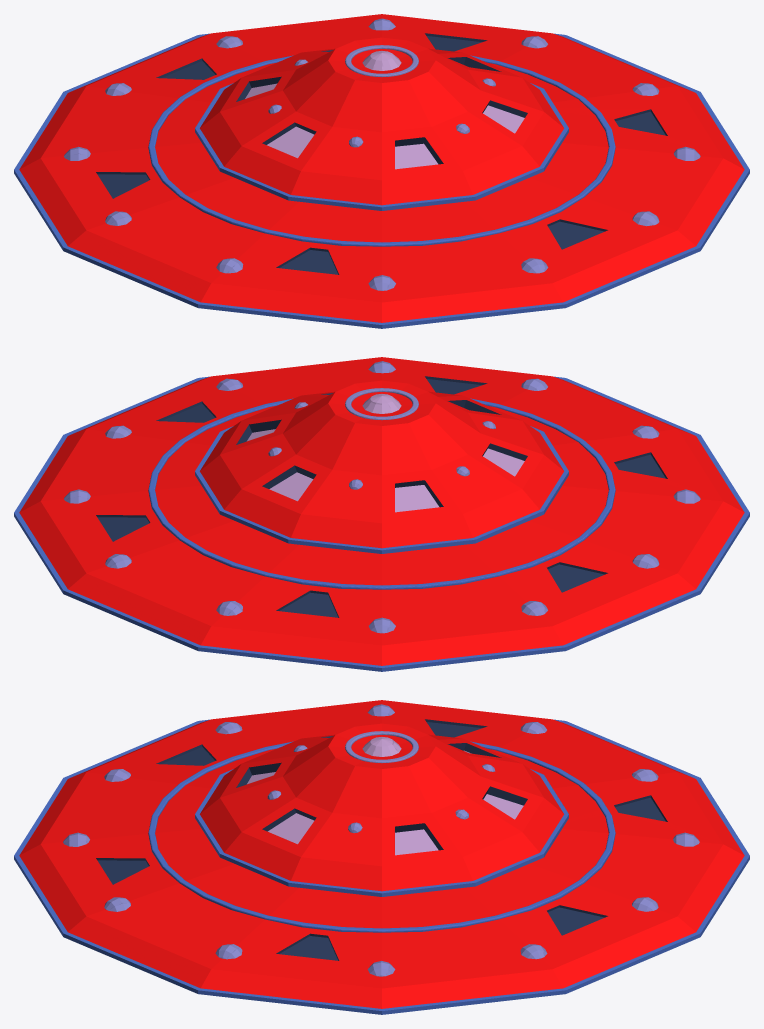
Rendered from ufo_medium_red.obj.
The picture shows the model from 3 angles, top to bottom: view 1: azimuth 30°, elevation 25°; view 2: azimuth 150°, elevation 25°; view 3: azimuth 270°, elevation 25°; orthographic projection.
Size of the model in its own units: 424 by 108 by 424.
Materials: 1 (1 with a texture image).
